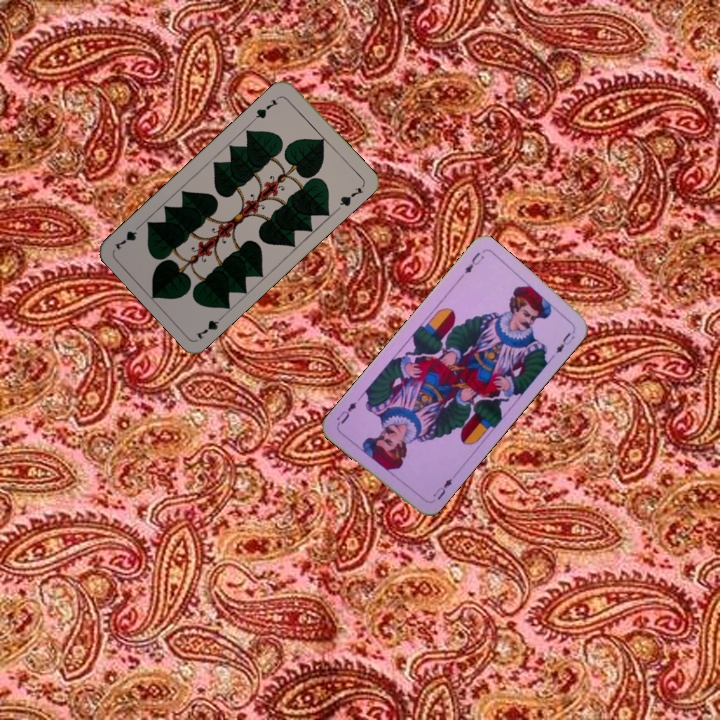EU: (455, 248, 487, 283), (429, 471, 458, 502)
G7: (192, 310, 228, 342), (250, 92, 283, 124)
